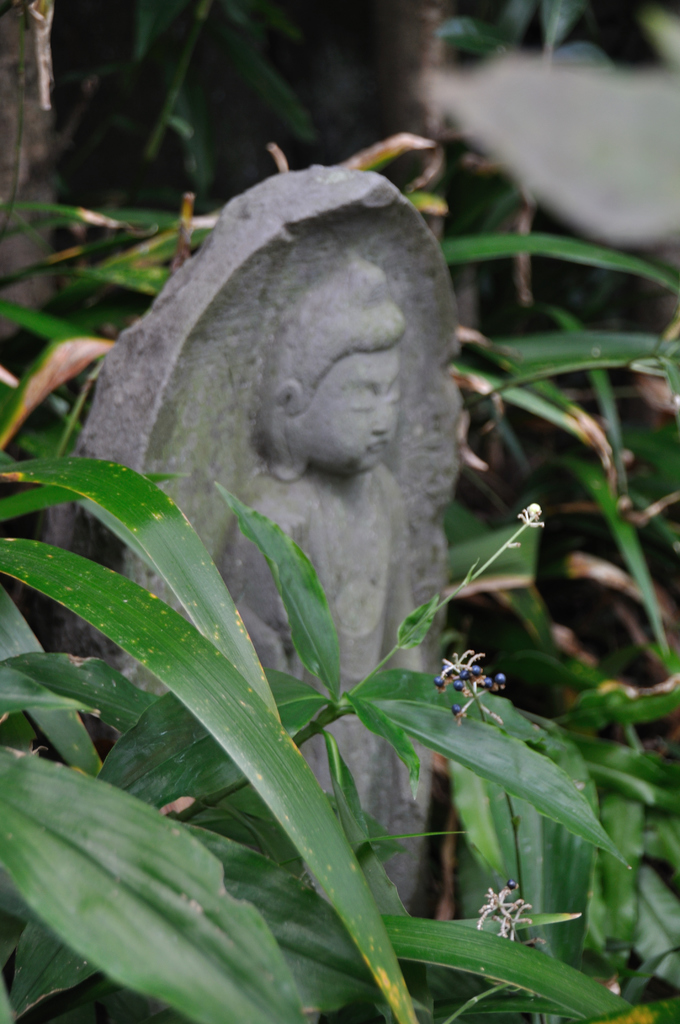Human-face: (315, 350, 401, 469)
